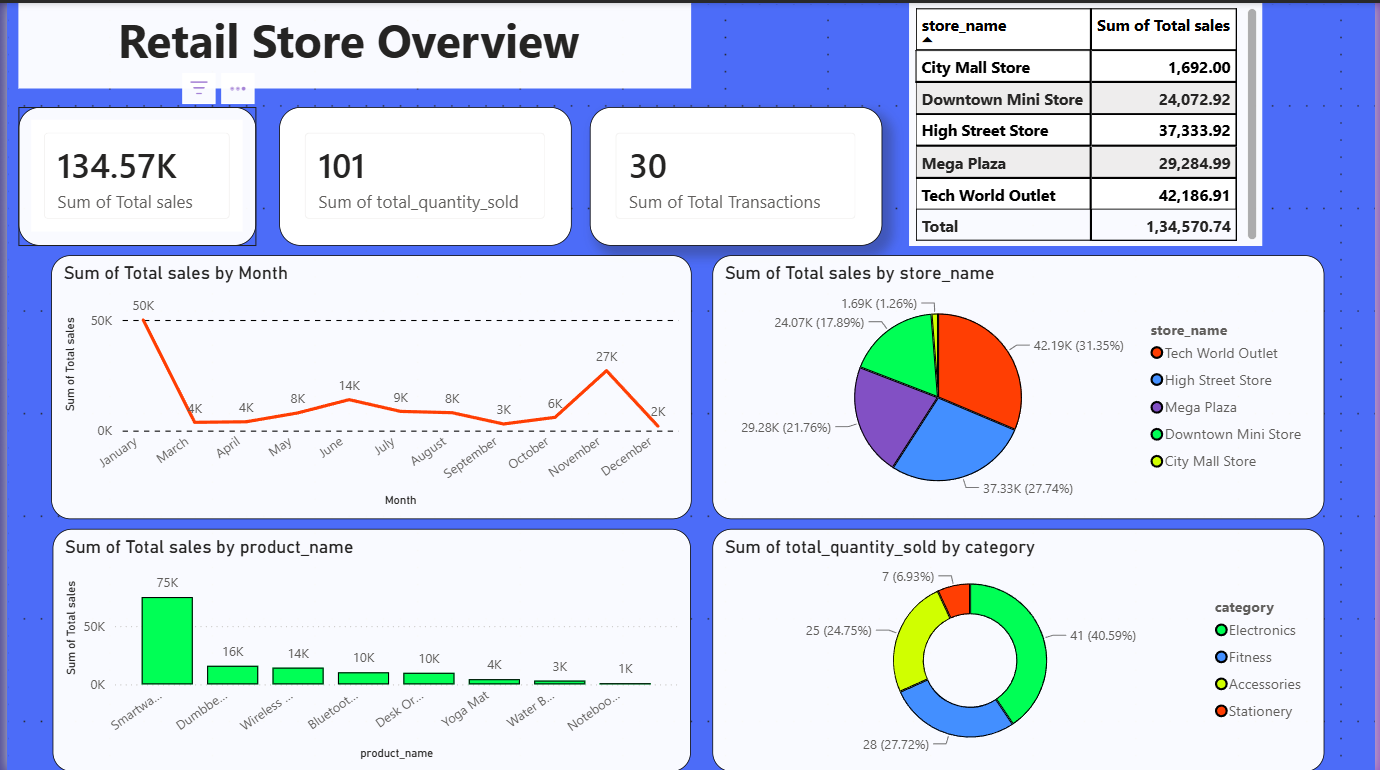

Layout of this report page (visuals, bound fields, positions):
{"tool":"powerbi","page":{"name":"Page 1","canvas":[1280,720],"ordinal":0},"visuals":[{"type":"textbox","box":[10.7,0,629.3,80],"z":0},{"type":"cardVisual","fields":{"Data":["Sum(retail_data.total_sales_amount)"]},"box":[10.7,97.8,222.2,129.8],"z":1000},{"type":"cardVisual","fields":{"Data":["Sum(retail_data.total_quantity_sold)"]},"box":[254.2,97.8,273.8,129.8],"z":2000},{"type":"cardVisual","fields":{"Data":["Sum(retail_data.number_of_transactions)"]},"box":[545.8,97.8,273.8,129.8],"z":3000},{"type":"lineChart","fields":{"Y":["Sum(retail_data.Total sales)"],"Category":["retail_data.transaction_date.Variation.Date Hierarchy.Month"]},"box":[40.9,236.4,599.1,247.1],"z":3001},{"type":"pieChart","fields":{"Category":["retail_data.store_name"],"Y":["Sum(retail_data.Total sales)"]},"box":[659.6,236.4,572.4,247.1],"z":3002},{"type":"columnChart","fields":{"Y":["Sum(retail_data.Total sales)"],"Category":["retail_data.product_name"]},"box":[42.7,492.4,597.3,227.6],"z":3003},{"type":"donutChart","fields":{"Category":["retail_data.category"],"Y":["Sum(retail_data.total_quantity_sold)"]},"box":[659.6,492.4,572.4,227.6],"z":3004},{"type":"tableEx","fields":{"Values":["retail_data.store_name","Sum(retail_data.Total sales)"]},"box":[844.4,0,330.7,227.6],"z":3005}]}

Visuals, with their boxes in screenshot pixels (x1, y1, x2, y2), scaled from the page's 1280x720 canvas onto the 1380x770 screenshot:
textbox: (x1=12, y1=0, x2=690, y2=86)
cardVisual - Sum(retail_data.total_sales_amount): (x1=12, y1=105, x2=251, y2=243)
cardVisual - Sum(retail_data.total_quantity_sold): (x1=274, y1=105, x2=569, y2=243)
cardVisual - Sum(retail_data.number_of_transactions): (x1=588, y1=105, x2=884, y2=243)
lineChart - Sum(retail_data.Total sales) x retail_data.transaction_date.Variation.Date Hierarchy.Month: (x1=44, y1=253, x2=690, y2=517)
pieChart - retail_data.store_name x Sum(retail_data.Total sales): (x1=711, y1=253, x2=1328, y2=517)
columnChart - Sum(retail_data.Total sales) x retail_data.product_name: (x1=46, y1=527, x2=690, y2=769)
donutChart - retail_data.category x Sum(retail_data.total_quantity_sold): (x1=711, y1=527, x2=1328, y2=769)
tableEx - retail_data.store_name x Sum(retail_data.Total sales): (x1=910, y1=0, x2=1267, y2=243)
